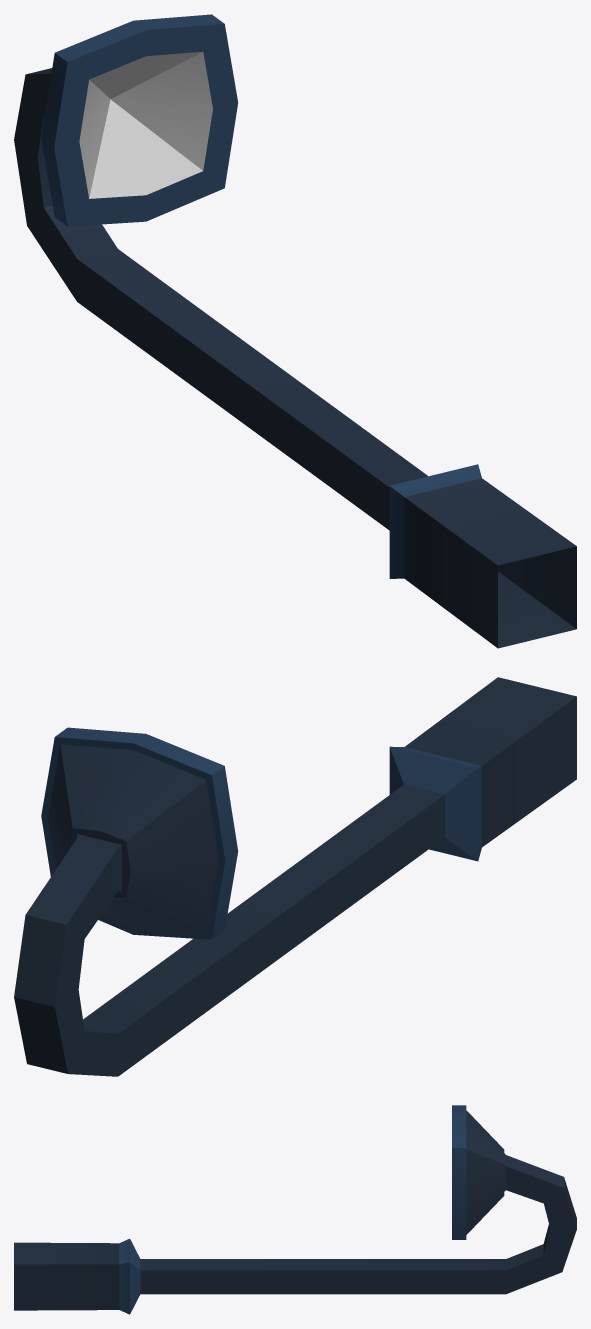
Rendered from Lamp 03.FBX.
The picture shows the model from 3 angles, top to bottom: view 1: azimuth 30°, elevation 25°; view 2: azimuth 150°, elevation 25°; view 3: azimuth 270°, elevation 25°; orthographic projection. The views are drawn at different scales.
Parts seen in each view (by area): view 1: Lamp 03; view 2: Lamp 03; view 3: Lamp 03.
Boxes of the visible parts, x1,y1,x2,y2 form: Lamp 03: (14, 14, 576, 648); Lamp 03: (14, 677, 576, 1076); Lamp 03: (14, 1105, 576, 1314).
Size of the model in its own units: 80.33 by 137 by 380.
1 material, 1 textured.
